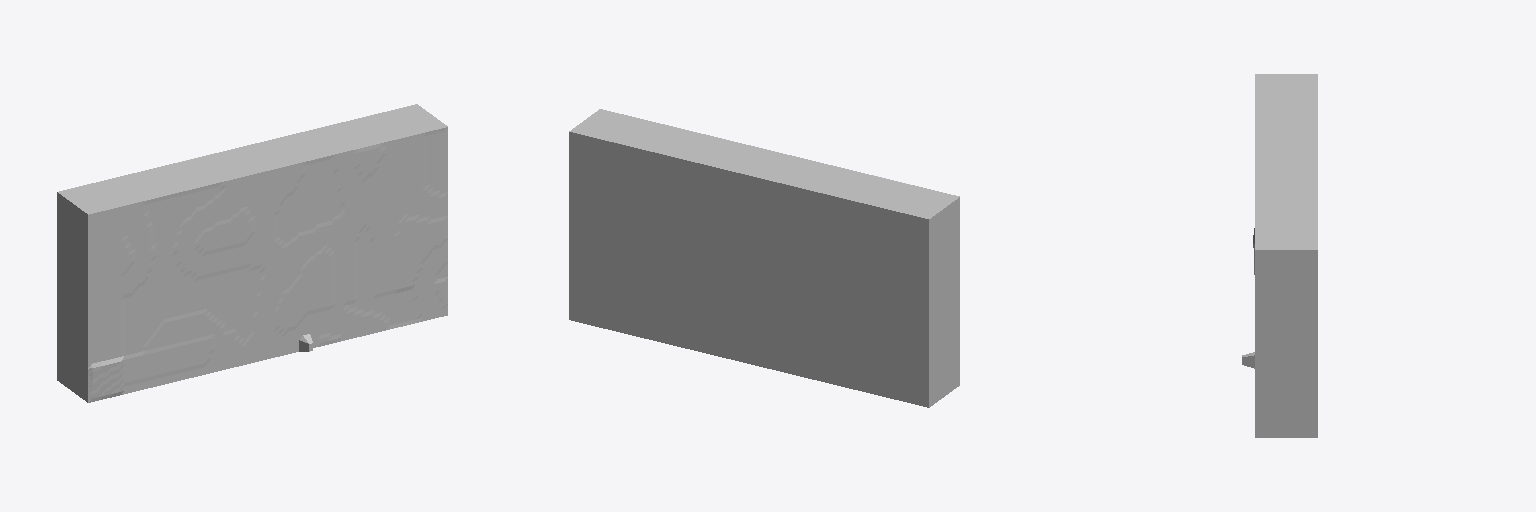
The model's file is rectangular_prism_bumps_7_4.obj.
3 renders of one model, left to right at view 1: azimuth 30°, elevation 25°; view 2: azimuth 150°, elevation 25°; view 3: azimuth 270°, elevation 25°, orthographic.
Size of the model in its own units: 10 by 5 by 1.81.